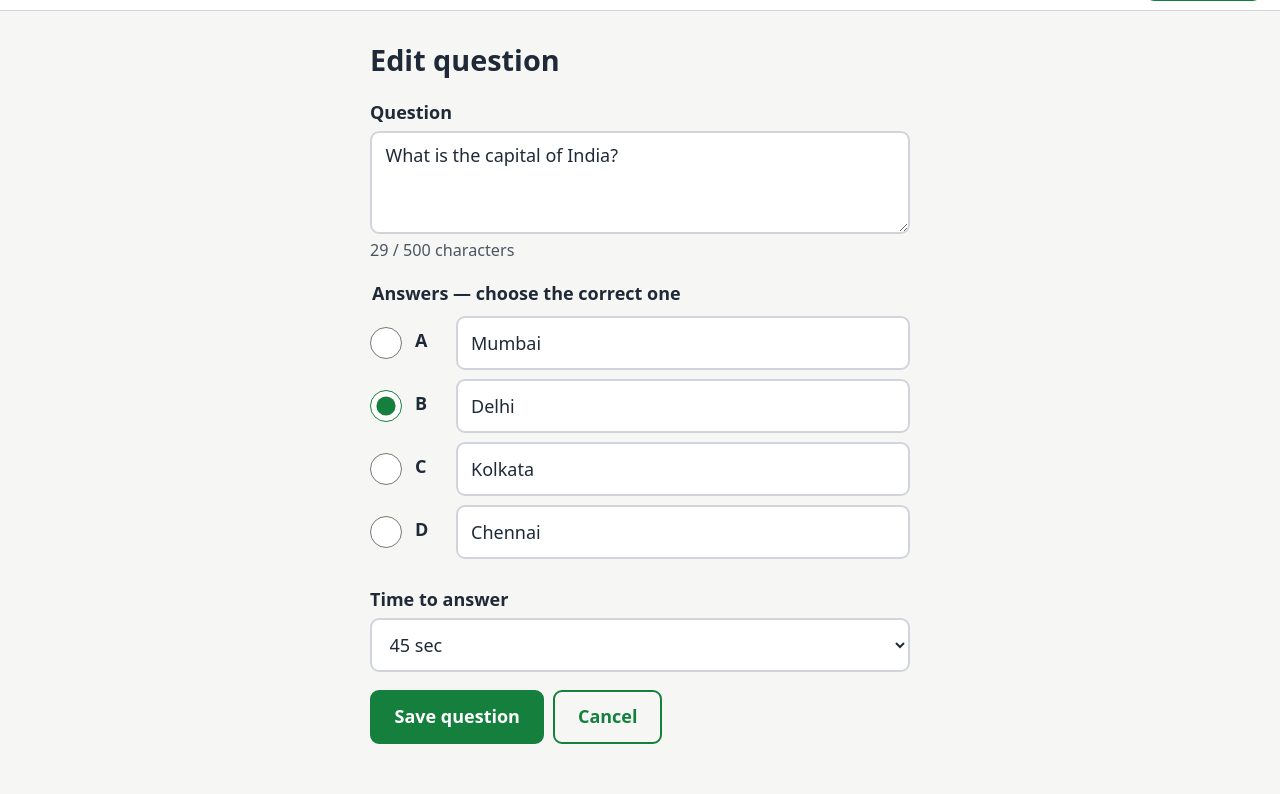
Scenario: question bank › shows server errors next to the answer they belong to
The width and height of the screenshot is (1280, 794).
(page scrolled)
Expected: the field named "Answer C" holds "Kolkata", [456,442,910,496]
Click the button "Save question" at (457, 717), box [370,690,544,744]
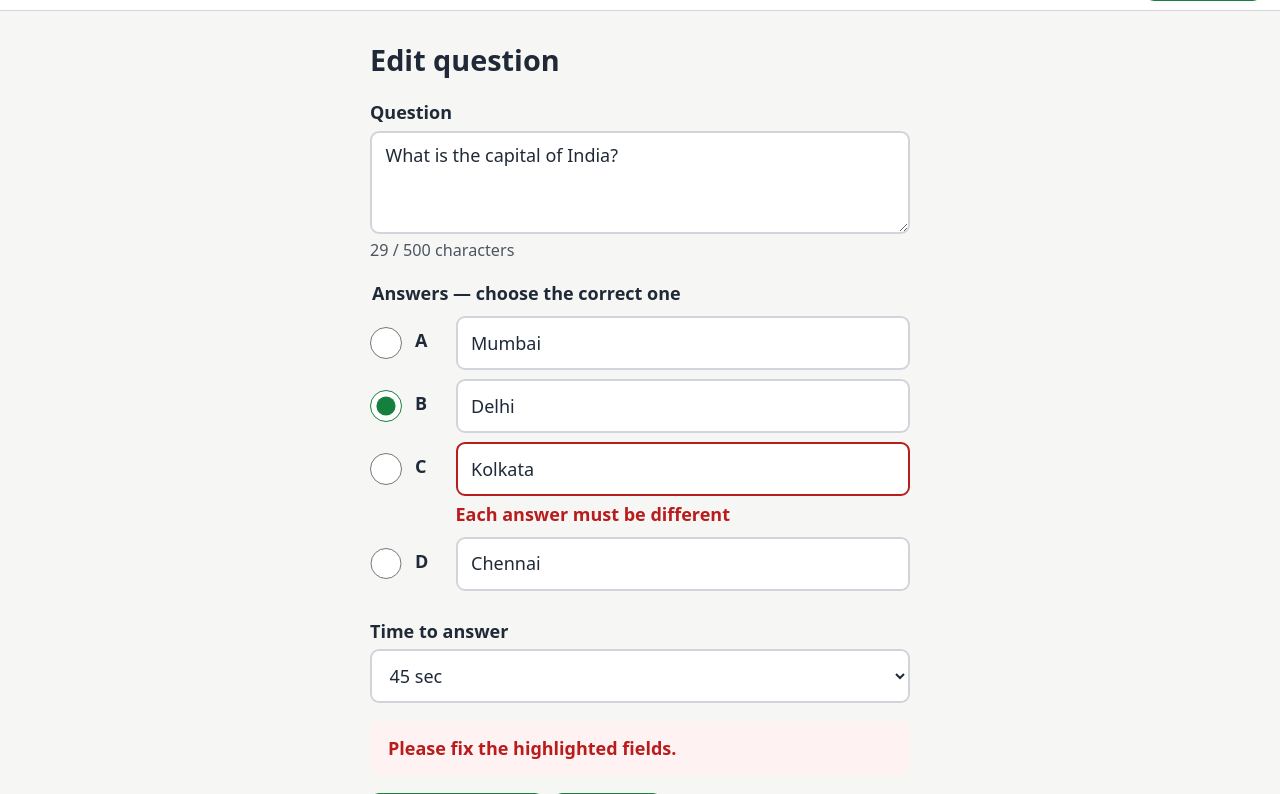
Now the text "Each answer must be different" is shown, box [456,502,730,526]
